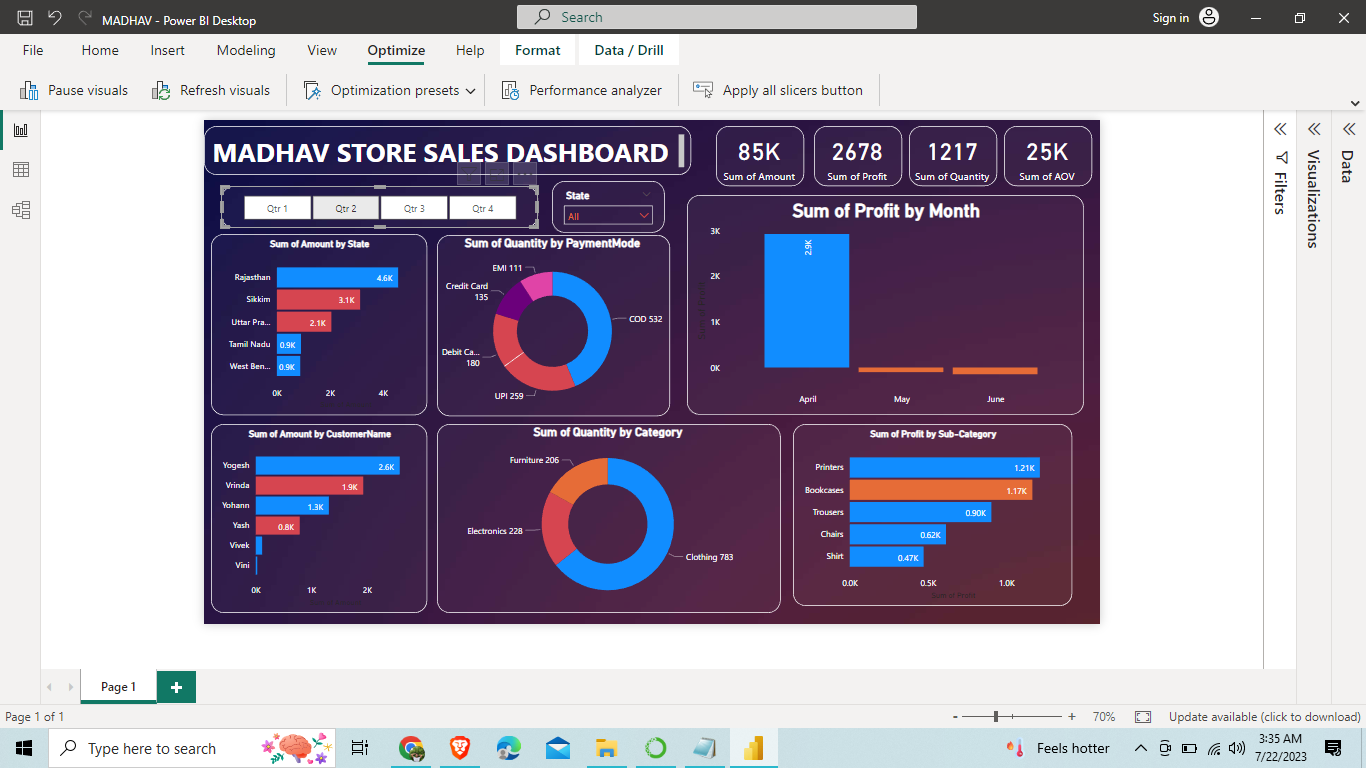

What the dashboard file says about the page in this screenshot:
{"tool":"powerbi","page":{"name":"Page 1","canvas":[1280,720],"ordinal":0},"visuals":[{"type":"textbox","box":[0,8.6,695.7,70],"z":0},{"type":"columnChart","fields":{"Y":["Details.Profit"],"Category":["Orders.Order Date.Variation.Date Hierarchy.Month"]},"box":[690,107.1,567.1,314.3],"z":1},{"type":"clusteredBarChart","fields":{"Category":["Details.Sub-Category"],"Y":["Details.Profit"]},"box":[841.4,434.3,398.6,260],"z":2},{"type":"donutChart","fields":{"Category":["Details.Category"],"Y":["Details.Quantity"]},"box":[332.9,434.3,491.4,270],"z":3},{"type":"donutChart","fields":{"Category":["Details.PaymentMode"],"Y":["Details.Quantity"]},"box":[332.9,164.3,332.9,258.6],"z":4},{"type":"card","fields":{"Values":["Details.Amount"]},"box":[731.4,8.6,125.7,85.7],"z":5},{"type":"card","fields":{"Values":["Details.Quantity"]},"box":[1007.1,8.6,125.7,85.7],"z":6},{"type":"card","fields":{"Values":["Details.Profit"]},"box":[871.4,8.6,125.7,85.7],"z":7},{"type":"clusteredBarChart","fields":{"Category":["Orders.State"],"Y":["Details.Amount"]},"box":[10,162.9,308.6,258.6],"z":8},{"type":"clusteredBarChart","fields":{"Category":["Orders.CustomerName"],"Y":["Details.Amount"]},"box":[10,434,309,270],"z":9},{"type":"card","fields":{"Values":["Details.AOV"]},"box":[1142.9,8.6,125.7,85.7],"z":10},{"type":"slicer","fields":{"Values":["Orders.Order Date.Variation.Date Hierarchy.Quarter"]},"box":[24.3,94.3,452.9,60],"z":11},{"type":"slicer","fields":{"Values":["Orders.State"]},"box":[497.1,87.1,161.4,74.3],"z":12}]}

Visuals, with their boxes on the page's 1280x720 design canvas (x1, y1, x2, y2). These are canvas units, not pixel positions in the 1366x768 screenshot, which may show the page scaled, cropped or inside an application window:
textbox: bbox=(0, 9, 696, 79)
columnChart - Details.Profit x Orders.Order Date.Variation.Date Hierarchy.Month: bbox=(690, 107, 1257, 421)
clusteredBarChart - Details.Sub-Category x Details.Profit: bbox=(841, 434, 1240, 694)
donutChart - Details.Category x Details.Quantity: bbox=(333, 434, 824, 704)
donutChart - Details.PaymentMode x Details.Quantity: bbox=(333, 164, 666, 423)
card - Details.Amount: bbox=(731, 9, 857, 94)
card - Details.Quantity: bbox=(1007, 9, 1133, 94)
card - Details.Profit: bbox=(871, 9, 997, 94)
clusteredBarChart - Orders.State x Details.Amount: bbox=(10, 163, 319, 422)
clusteredBarChart - Orders.CustomerName x Details.Amount: bbox=(10, 434, 319, 704)
card - Details.AOV: bbox=(1143, 9, 1269, 94)
slicer - Orders.Order Date.Variation.Date Hierarchy.Quarter: bbox=(24, 94, 477, 154)
slicer - Orders.State: bbox=(497, 87, 658, 161)
